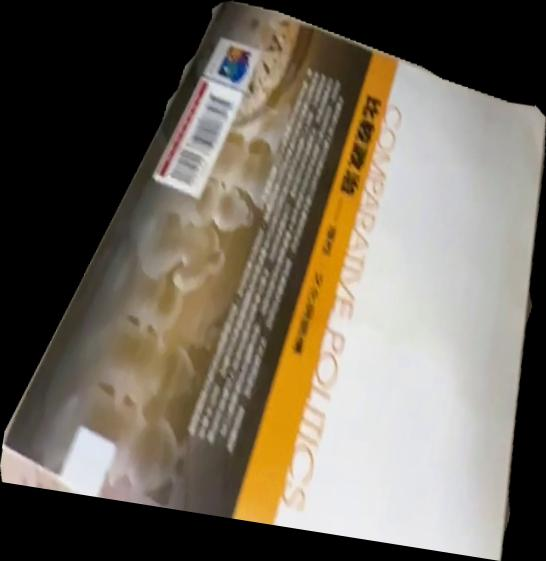flat: (1, 1, 546, 561)
